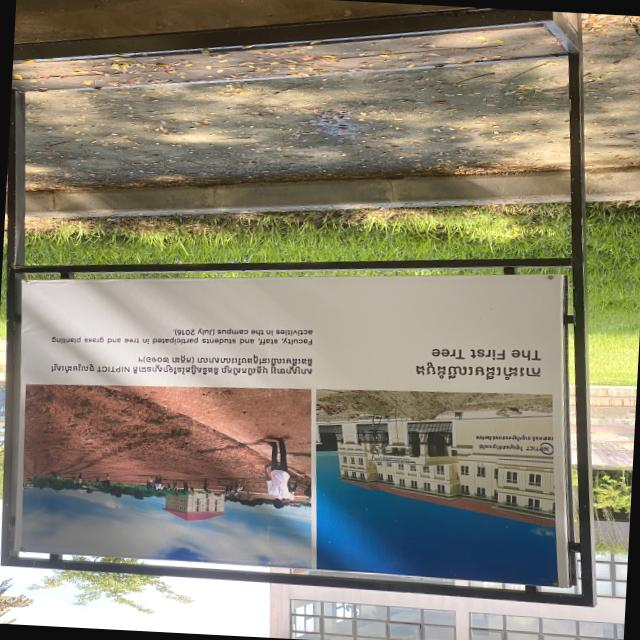2: (131, 363, 314, 381), (135, 353, 316, 367)
Yolov11_80vkh: (406, 362, 546, 382), (49, 362, 97, 375)
